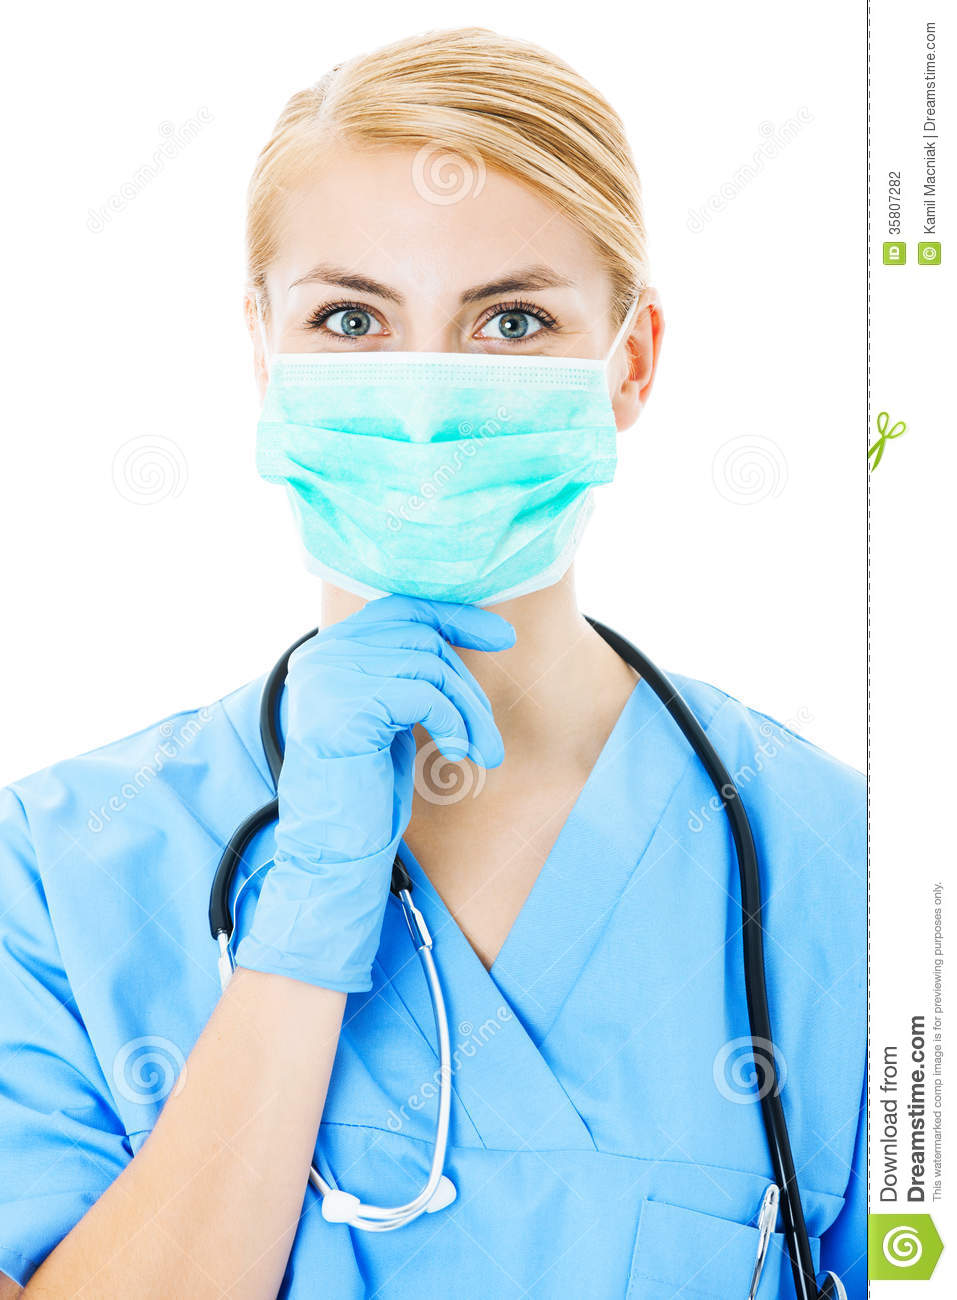mask: (254, 357, 614, 609)
